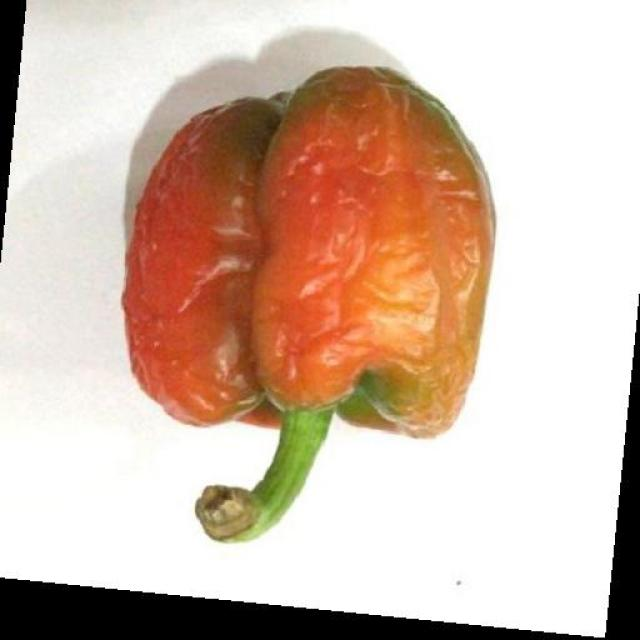Stale_Capsicum: (120, 53, 497, 541)
